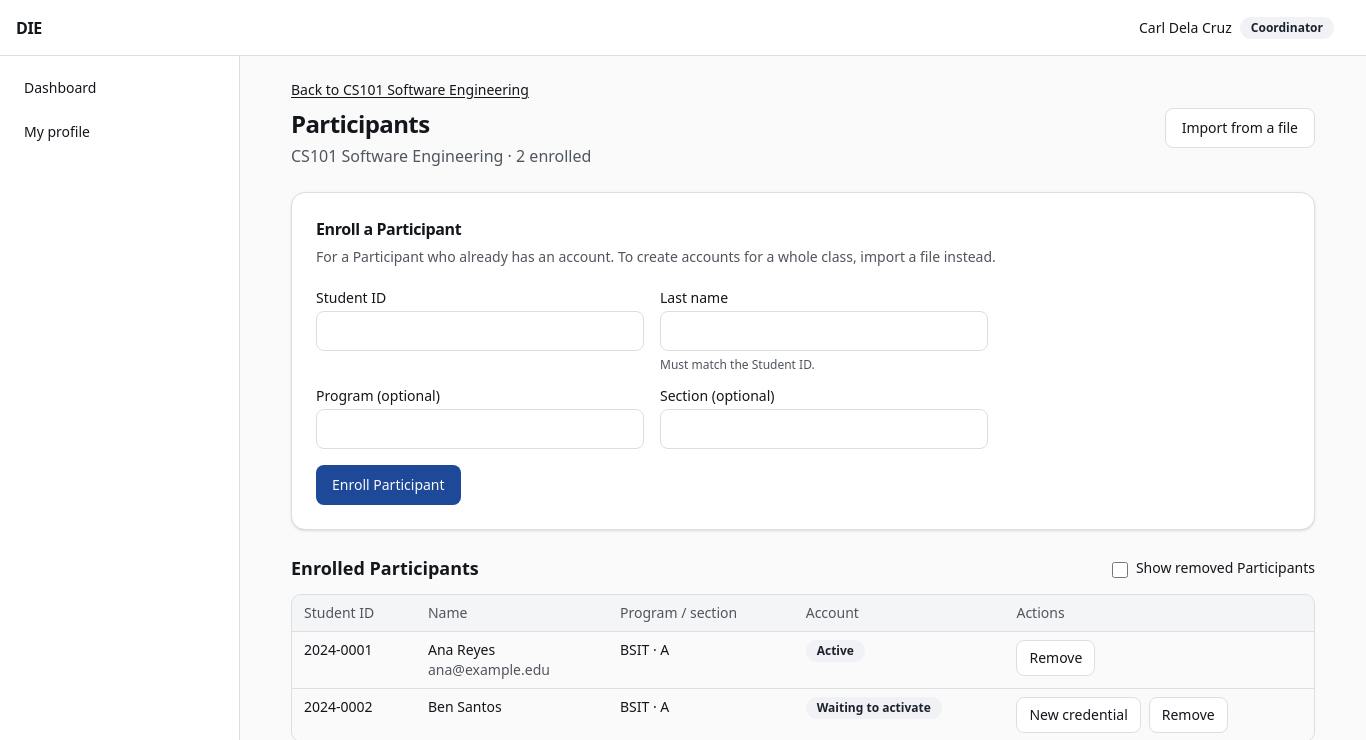
Scenario: Temporary credentials and removal › shows a re-issued credential once and then forgets it
Click the button with aria-label "Issue a new temporary credential for Ben Santos" at (1079, 715), box [1016,697,1141,733]
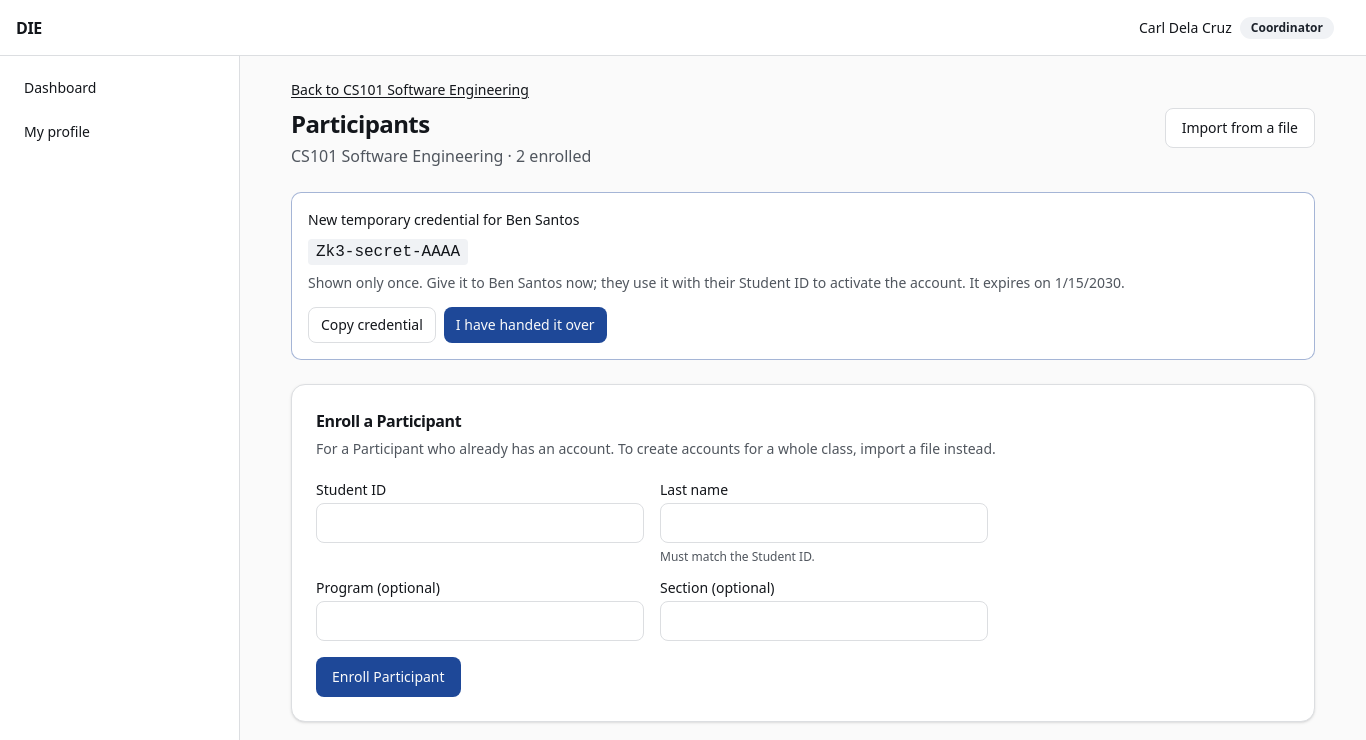
expect the text "Zk3-secret-AAAA" is shown: met, box [308,239,468,265]
expect the text "Shown only once" is shown: met, box [308,273,488,292]
Click the button "I have handed it over" at (525, 324), box [444,306,607,342]
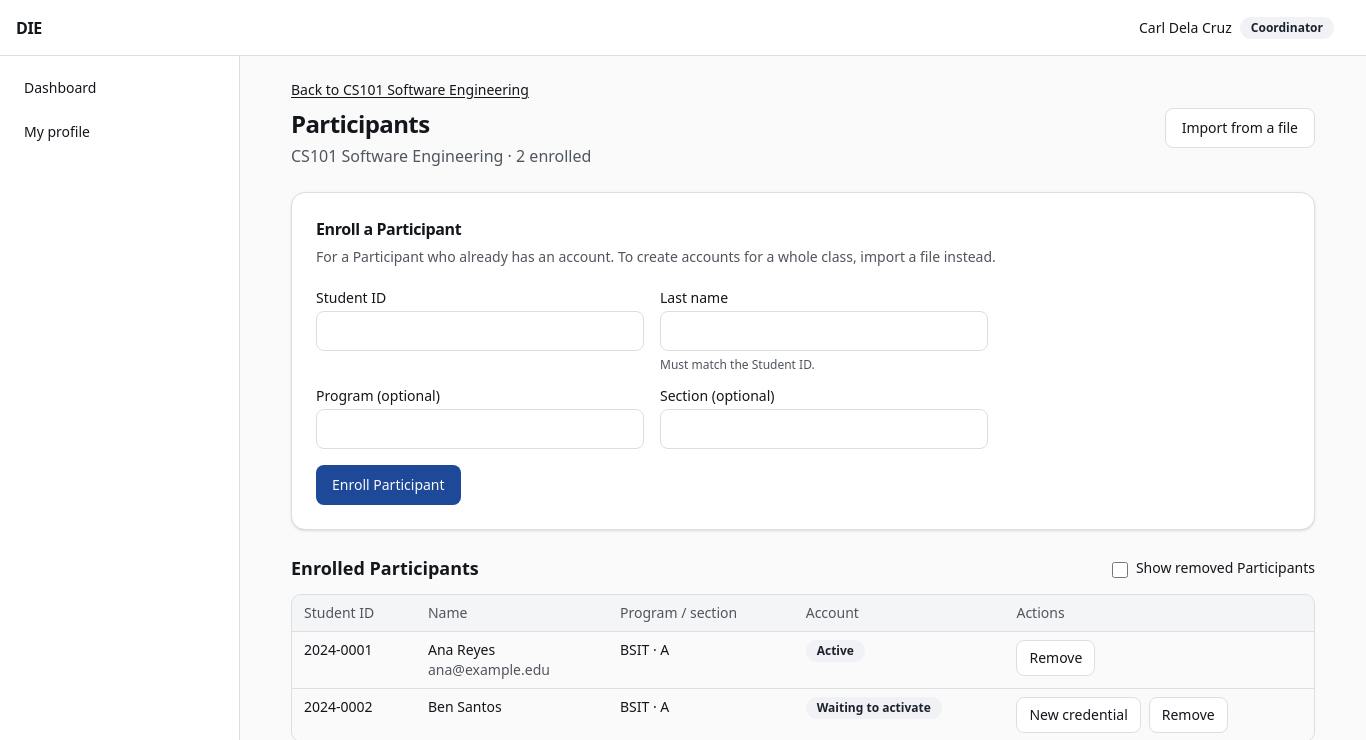
expect the text "Zk3-secret-AAAA" is gone: met
